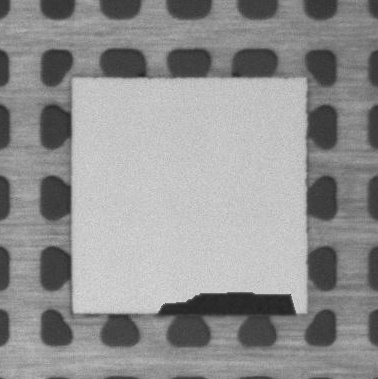DIE_BROKEN: (155, 288, 300, 318)
